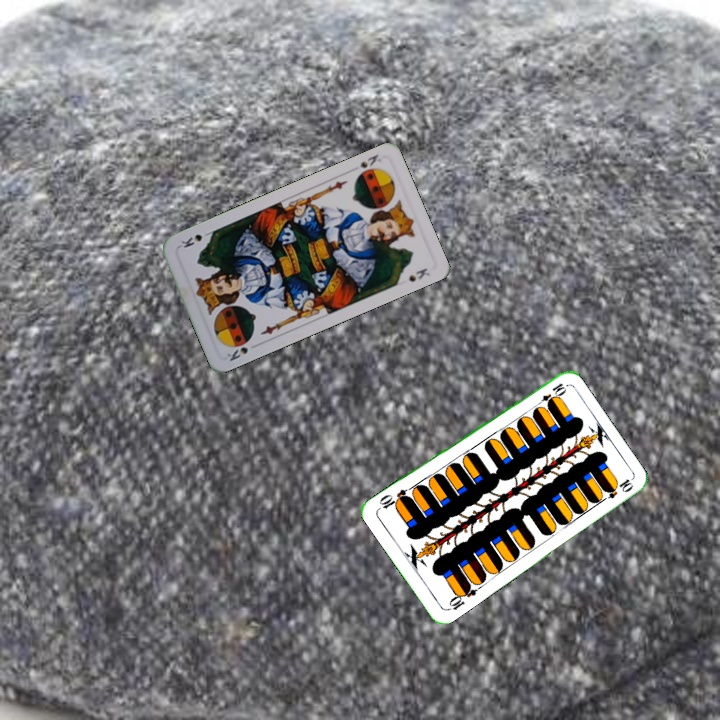E10: (443, 581, 479, 613), (532, 379, 568, 410)
SK: (223, 340, 261, 364), (356, 150, 384, 171)
